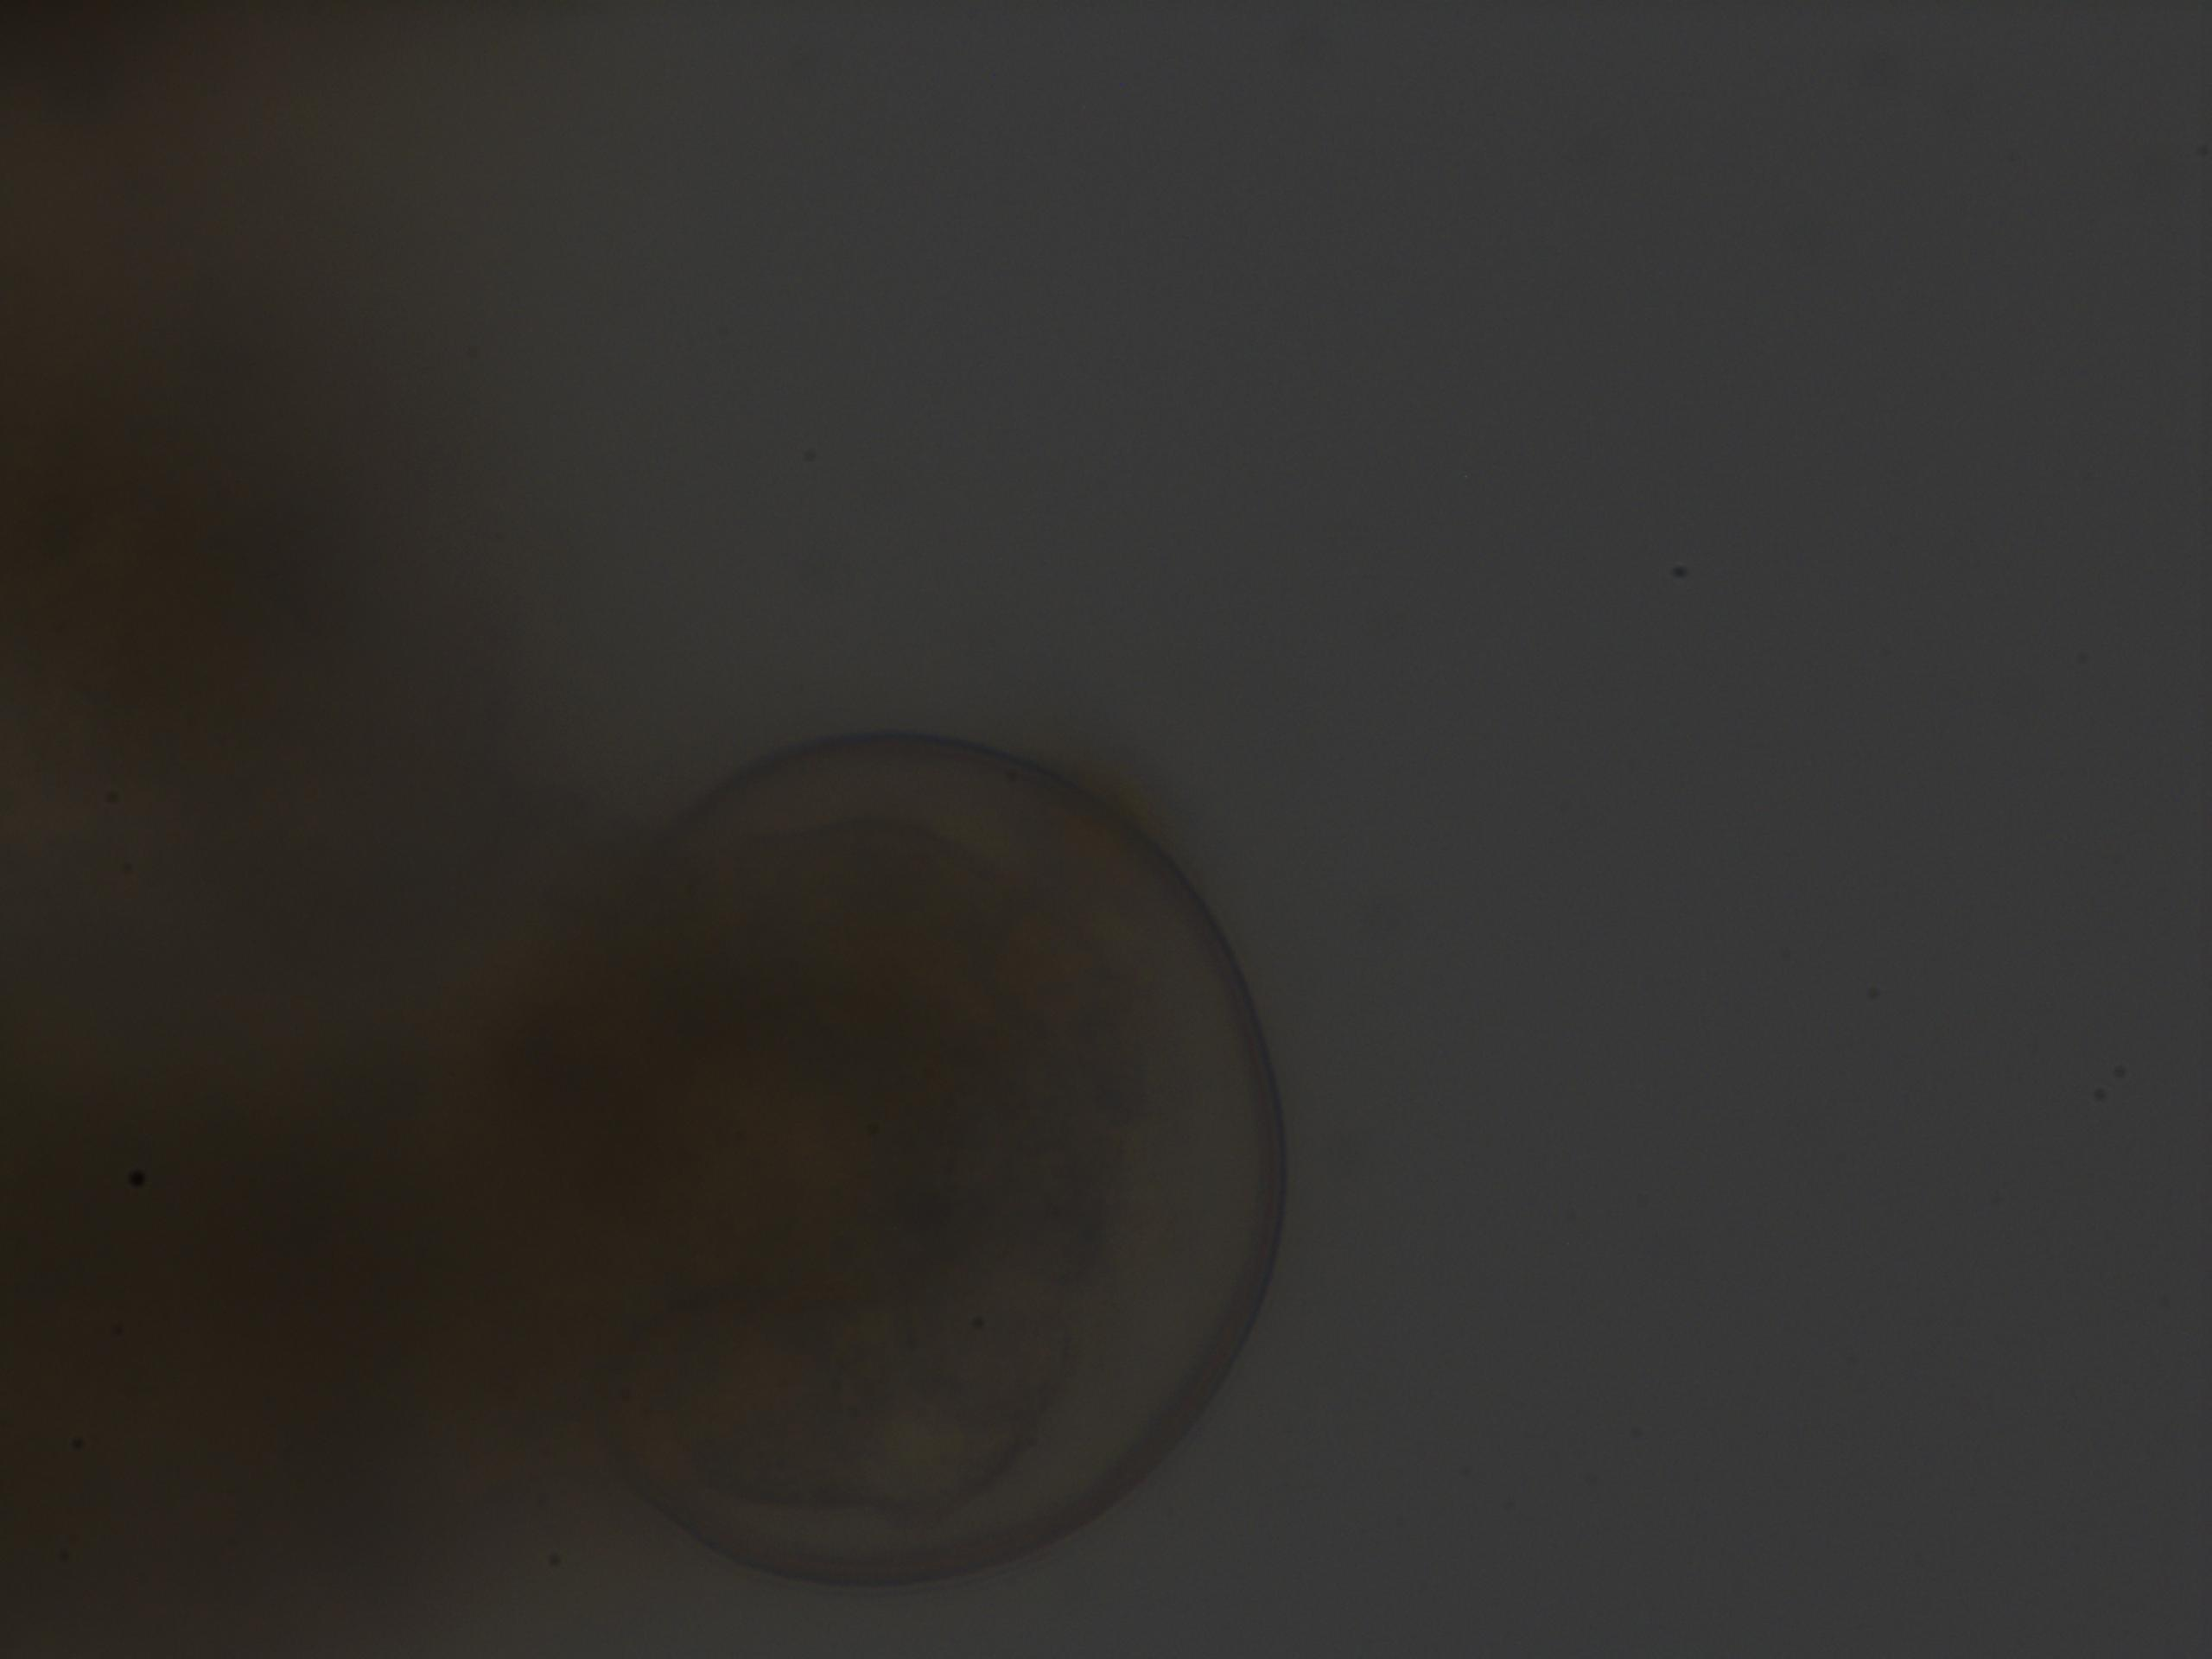protozoa: (535, 714, 1299, 1596)
